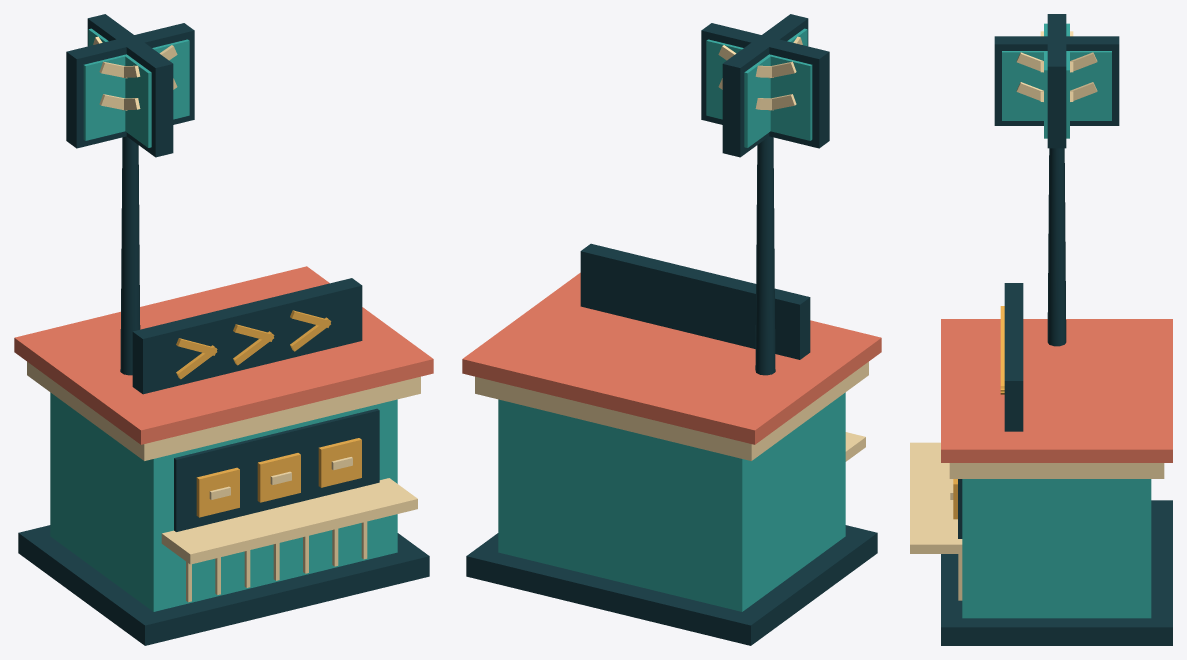
Rendered from dispatch-booth.glb.
The picture shows the model from 3 angles, left to right: view 1: azimuth 30°, elevation 25°; view 2: azimuth 150°, elevation 25°; view 3: azimuth 270°, elevation 25°; orthographic projection. The views are drawn at different scales.
Size of the model in its own units: 3.67 by 6.43 by 3.06.
